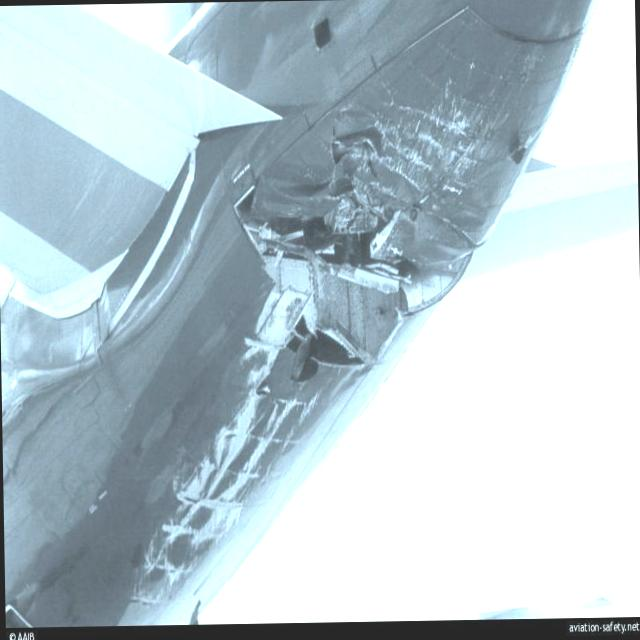crack: (235, 124, 420, 384)
